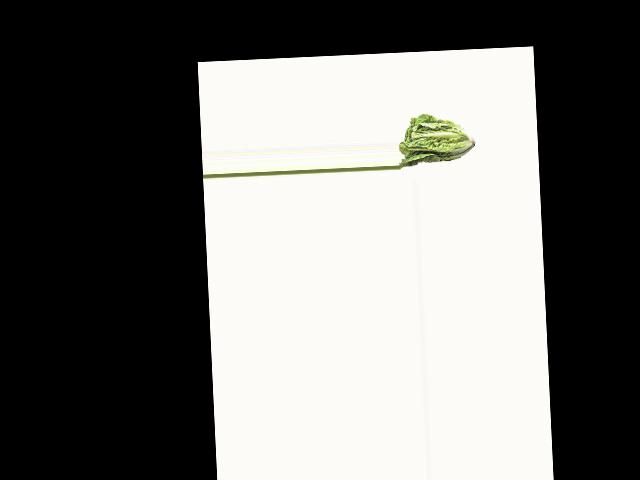lettuce: (397, 109, 474, 167)
